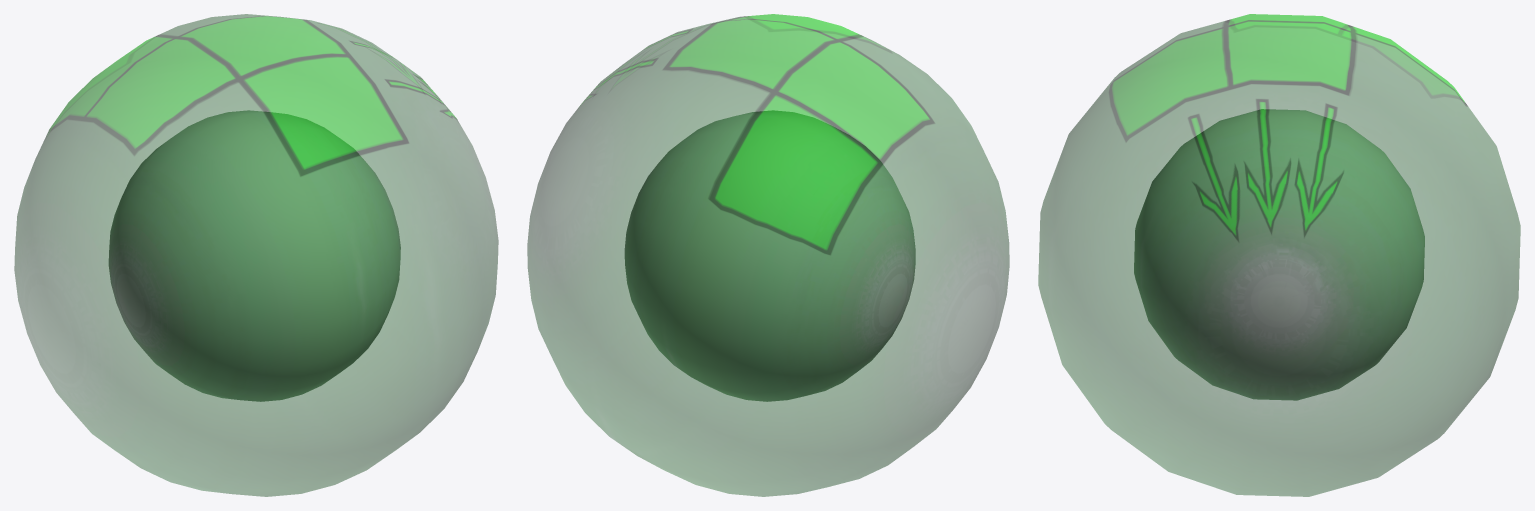
The model's file is Slow Fall Speed.fbx.
The picture shows the model from 3 angles, left to right: view 1: azimuth 30°, elevation 25°; view 2: azimuth 150°, elevation 25°; view 3: azimuth 270°, elevation 25°; orthographic projection.
Parts seen in each view (by area): view 1: pSphere3; view 2: pSphere3; view 3: pSphere3.
Boxes of the visible parts, left/top/right/bottom form: pSphere3: left=14, top=14, right=498, bottom=496; pSphere3: left=527, top=14, right=1009, bottom=496; pSphere3: left=1038, top=14, right=1520, bottom=496.
Size of the model in its own units: 2 by 1.98 by 1.98.
Materials: 2 (2 with a texture image).
